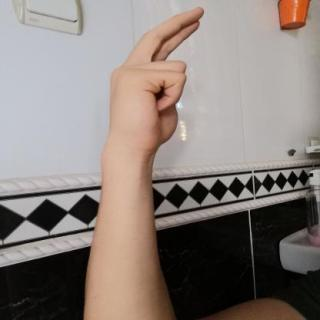ZAY: (96, 3, 216, 159)
